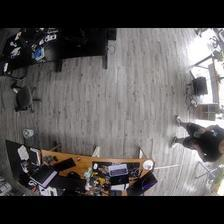normal: (168, 113, 224, 162)
